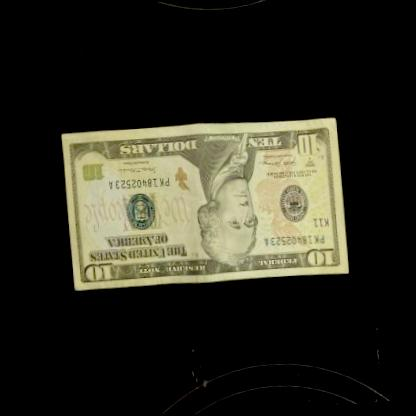ten-front: (60, 113, 350, 294)
